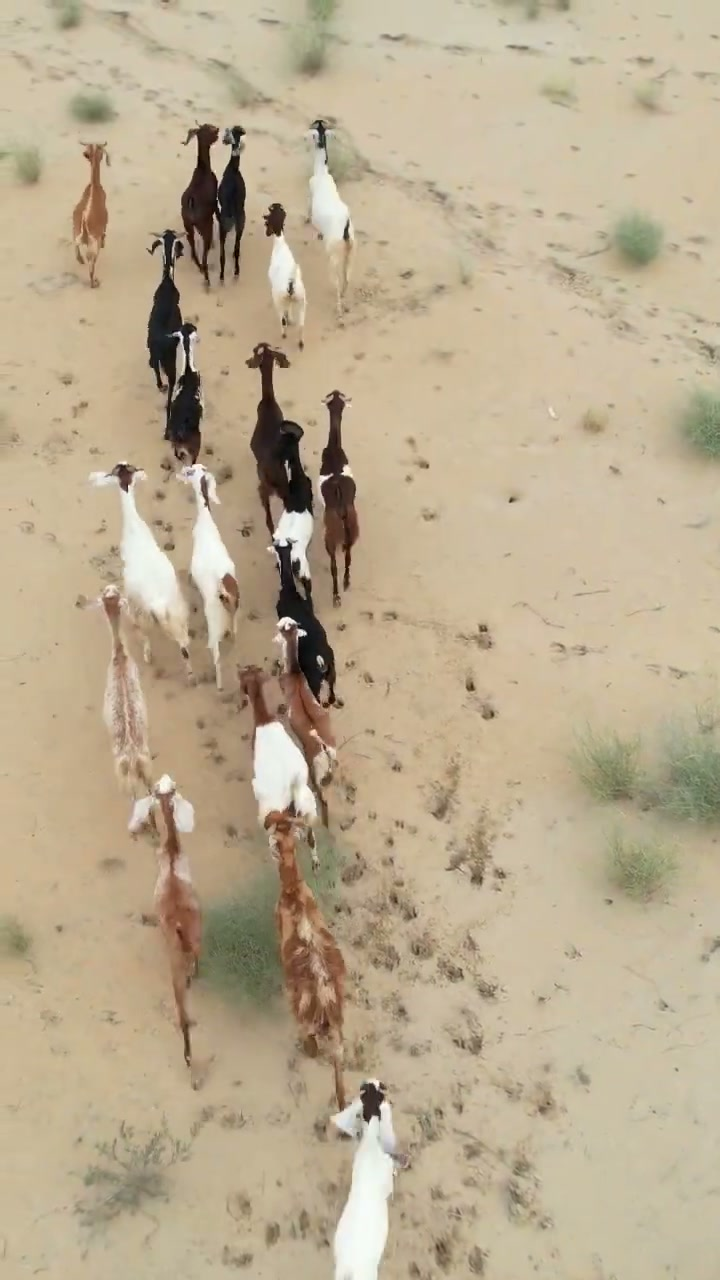animal_footprint: (212, 643, 564, 1250), (148, 1131, 264, 1279), (157, 714, 245, 843)
